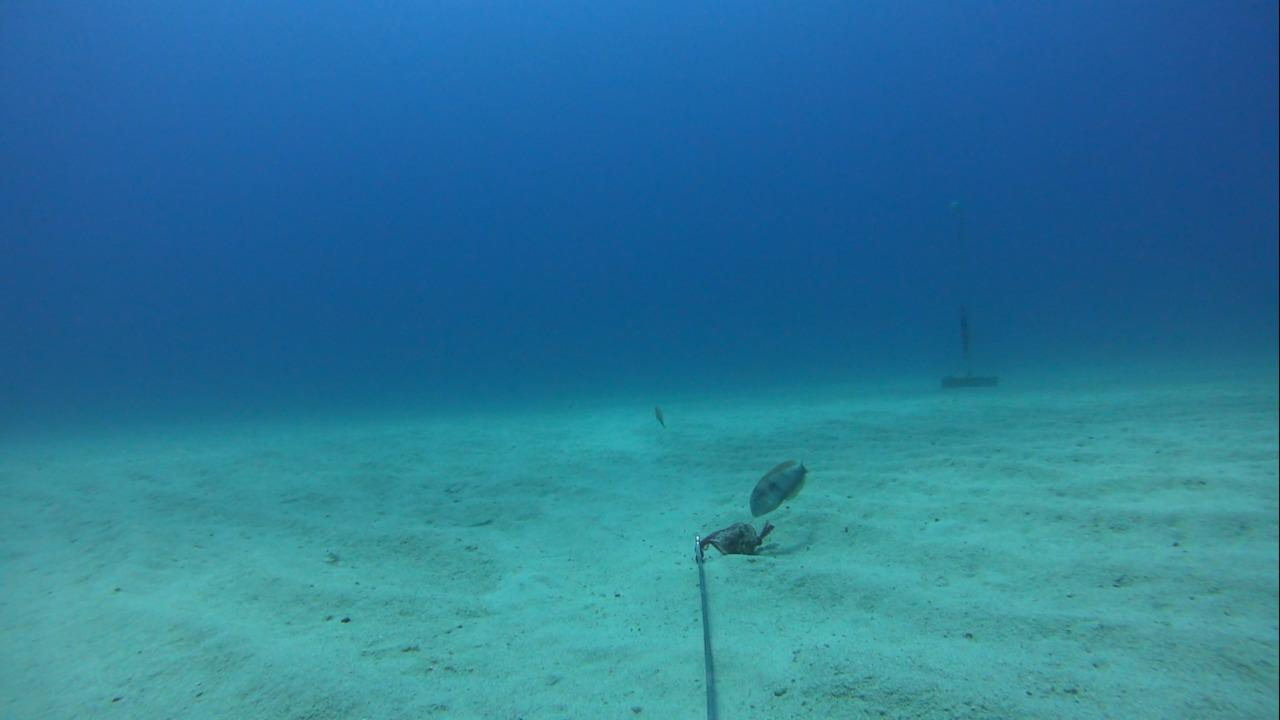raor: (741, 449, 819, 520)
